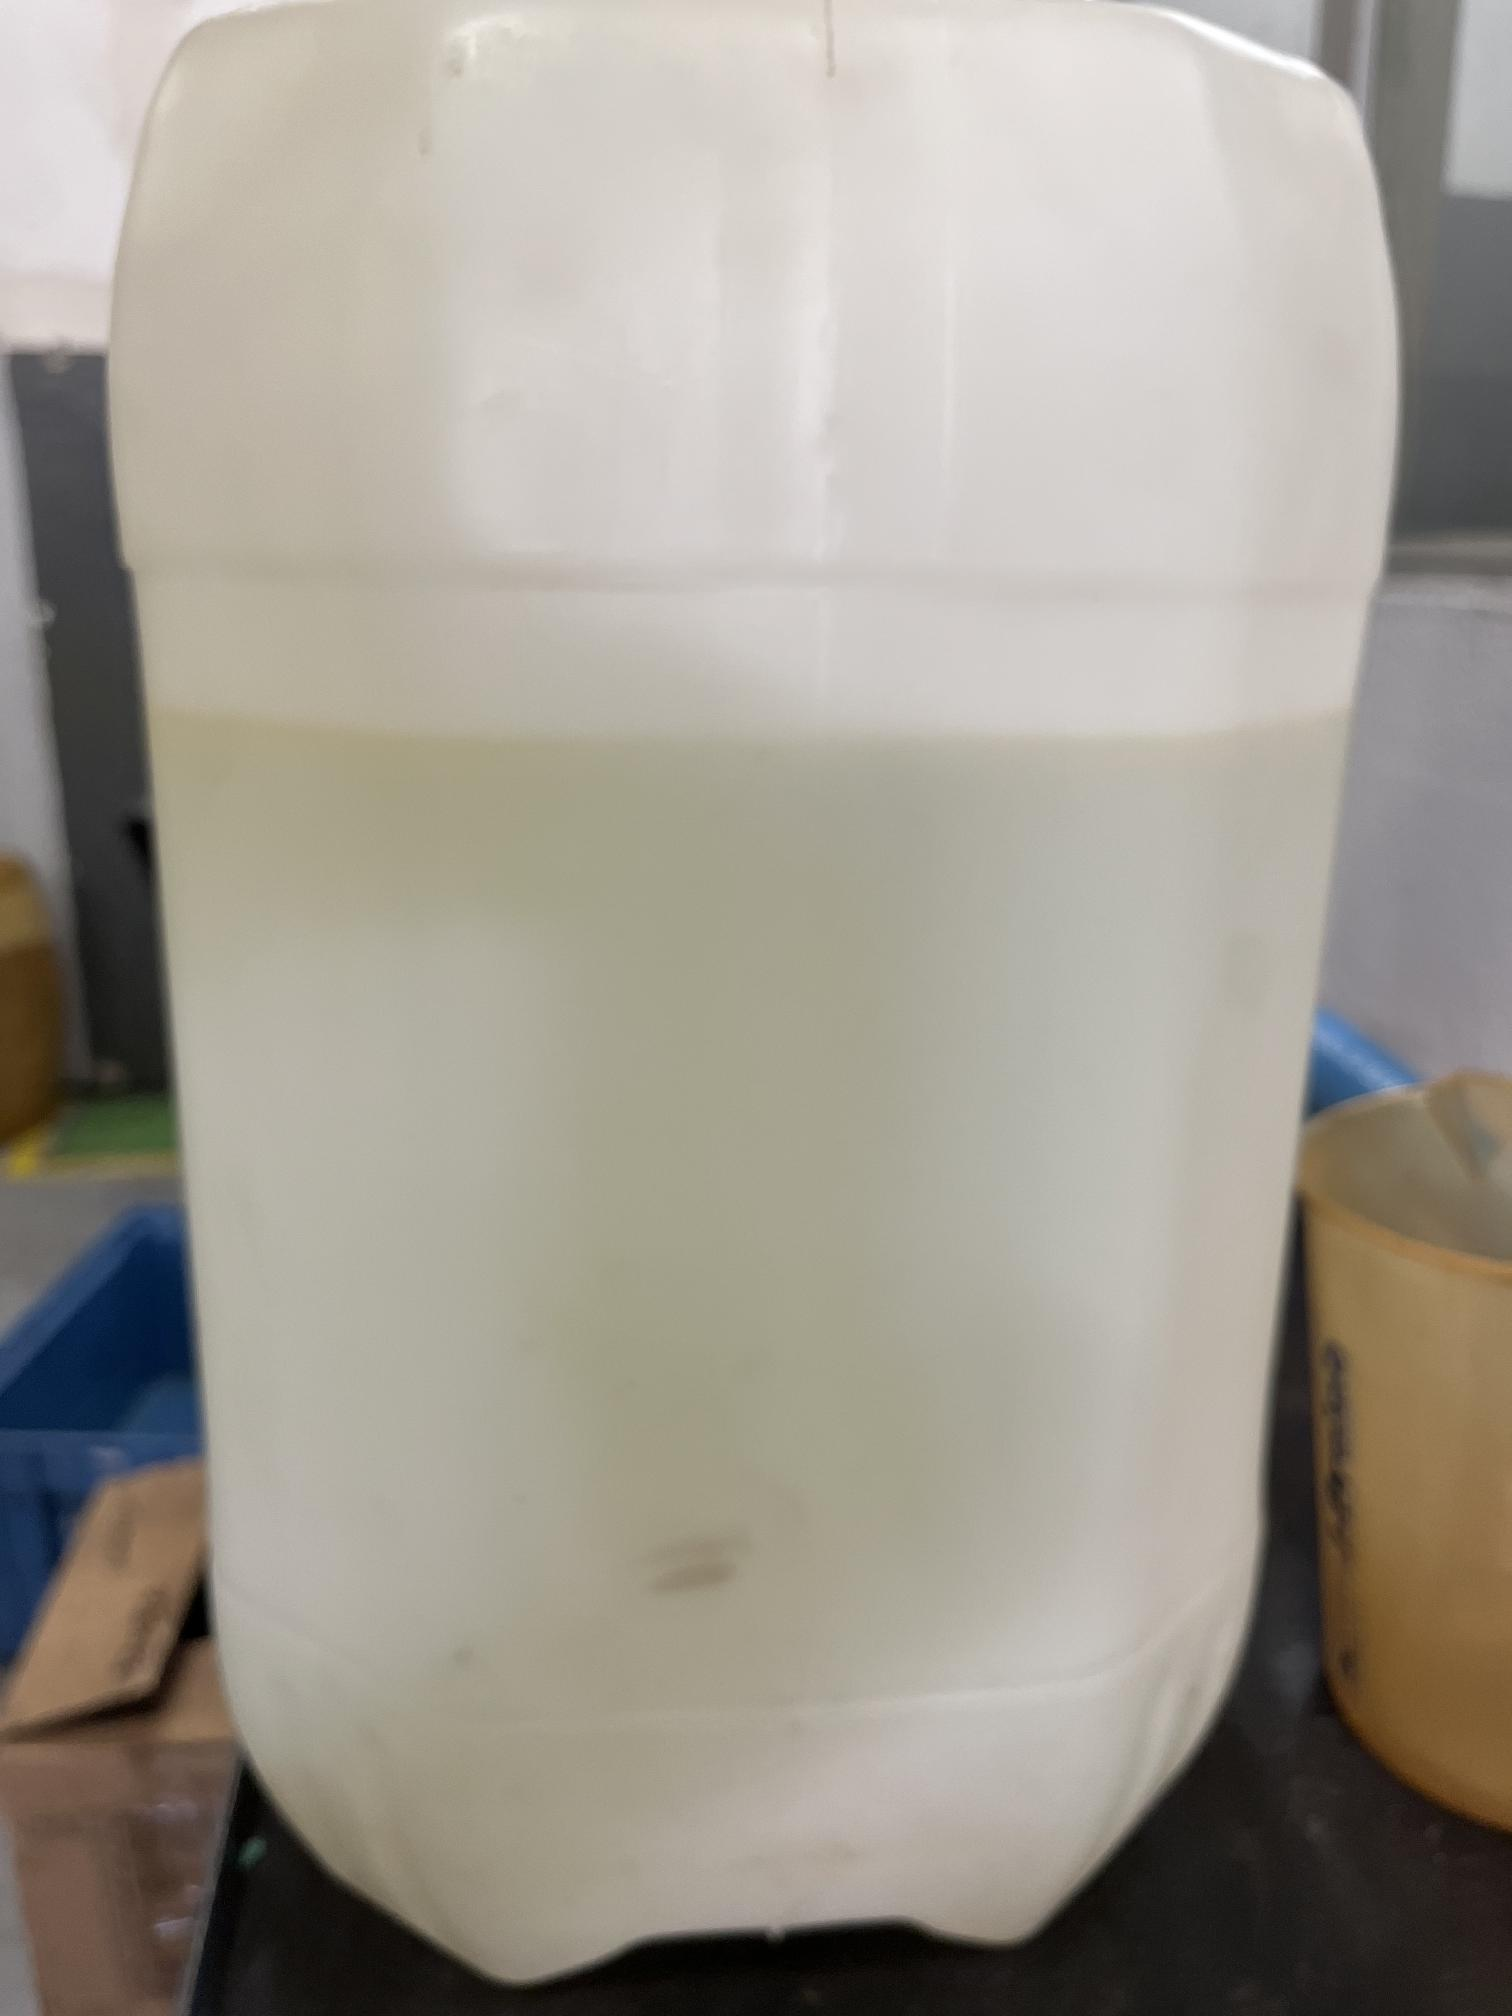Galao: (100, 49, 1371, 1926)
